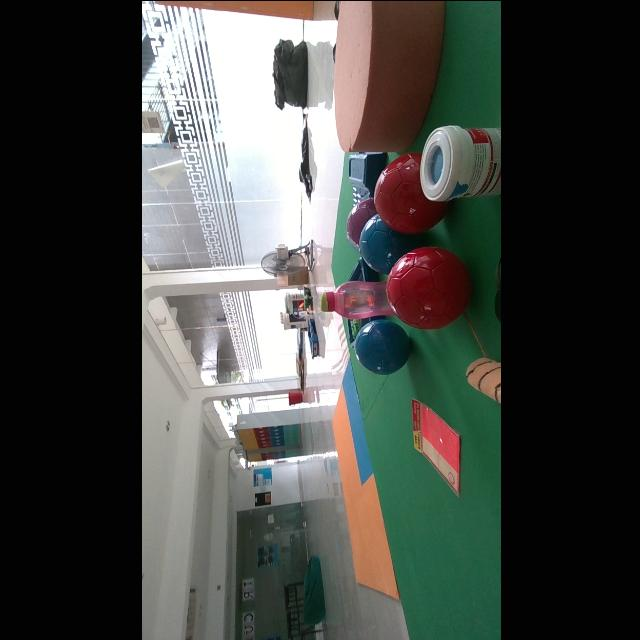B: (358, 213, 423, 273), (352, 318, 408, 375)
P: (345, 197, 375, 246)
R: (384, 246, 470, 328), (372, 153, 447, 232)
